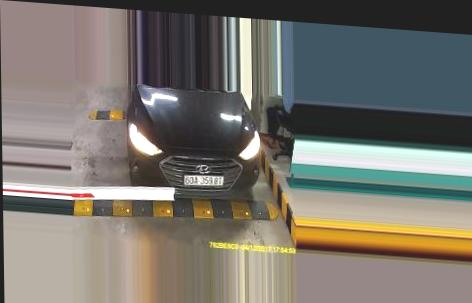License_Plate: (181, 172, 227, 190)
